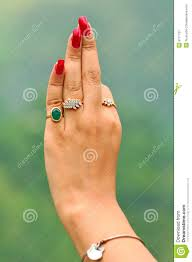hand: (45, 15, 139, 223)
